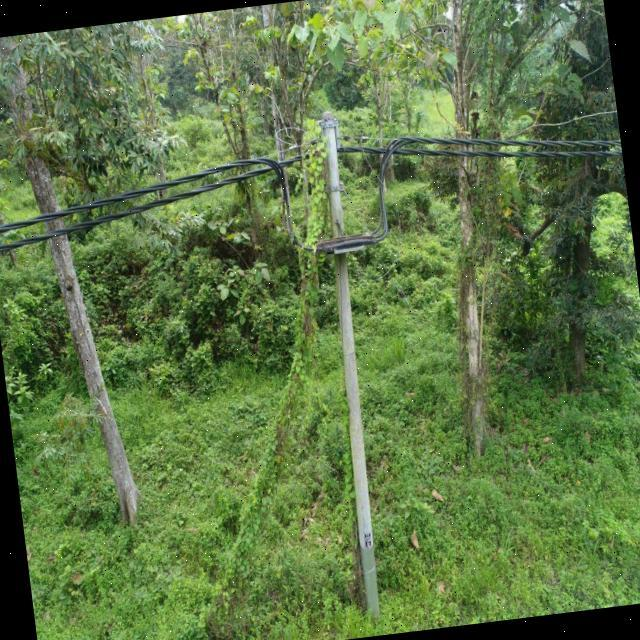critical vegetation: (144, 104, 390, 622)
